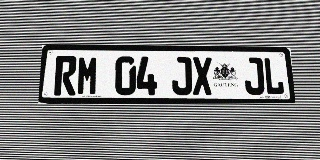0: (115, 56, 136, 95)
4: (136, 56, 157, 95)
J: (243, 57, 265, 95), (171, 57, 192, 95)
L: (263, 57, 285, 95)
M: (76, 56, 99, 95)
R: (54, 56, 77, 95)
X: (192, 57, 213, 95)
